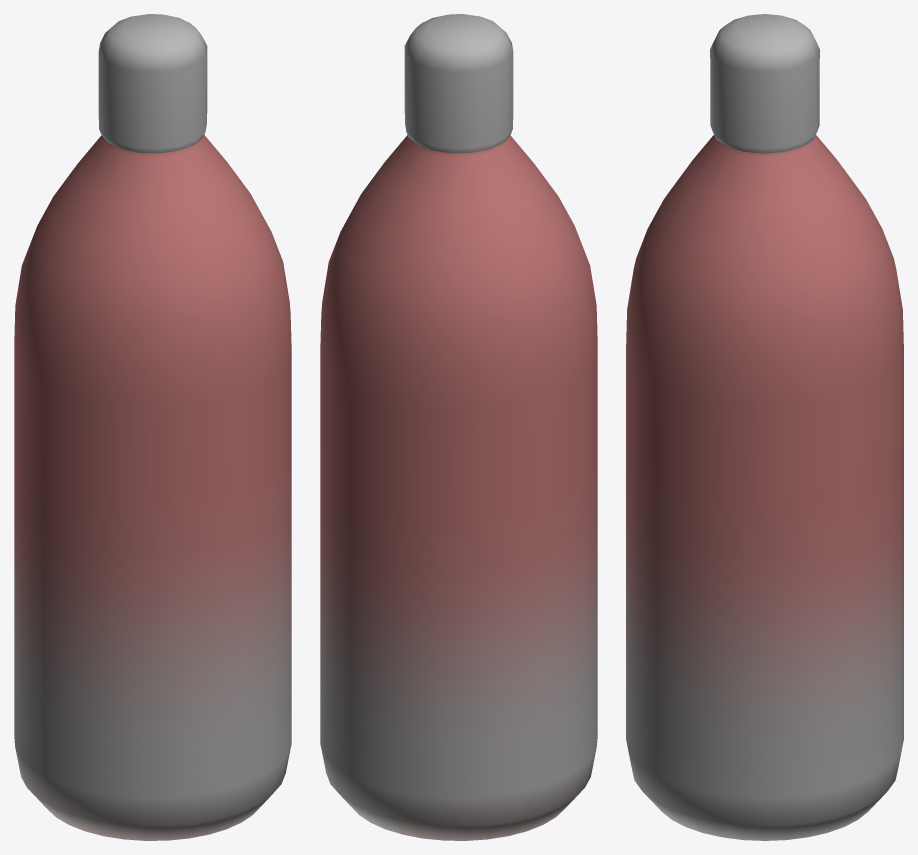
The model's file is pi_waterbottle03_01.gltf.
3 renders of one model, left to right at view 1: azimuth 30°, elevation 25°; view 2: azimuth 150°, elevation 25°; view 3: azimuth 270°, elevation 25°, orthographic.
Parts seen in each view (by area): view 1: um_pi_waterbottle03_01_model_lod0Shape:pi_waterbottle03_body, um_pi_waterbottle03_01_model_lod1Shape:pi_waterbottle03_body; view 2: um_pi_waterbottle03_01_model_lod0Shape:pi_waterbottle03_body, um_pi_waterbottle03_01_model_lod1Shape:pi_waterbottle03_body; view 3: um_pi_waterbottle03_01_model_lod0Shape:pi_waterbottle03_body, um_pi_waterbottle03_01_model_lod1Shape:pi_waterbottle03_body.
Part boxes in pixels (<box>): um_pi_waterbottle03_01_model_lod0Shape:pi_waterbottle03_body: <box>14,14,291,840</box>; um_pi_waterbottle03_01_model_lod1Shape:pi_waterbottle03_body: <box>98,14,189,141</box>; um_pi_waterbottle03_01_model_lod0Shape:pi_waterbottle03_body: <box>320,14,597,840</box>; um_pi_waterbottle03_01_model_lod1Shape:pi_waterbottle03_body: <box>404,14,506,153</box>; um_pi_waterbottle03_01_model_lod0Shape:pi_waterbottle03_body: <box>626,14,903,840</box>; um_pi_waterbottle03_01_model_lod1Shape:pi_waterbottle03_body: <box>737,14,819,153</box>.
Size of the model in its own units: 0.127 by 0.387 by 0.1271.
1 material, 1 textured.
